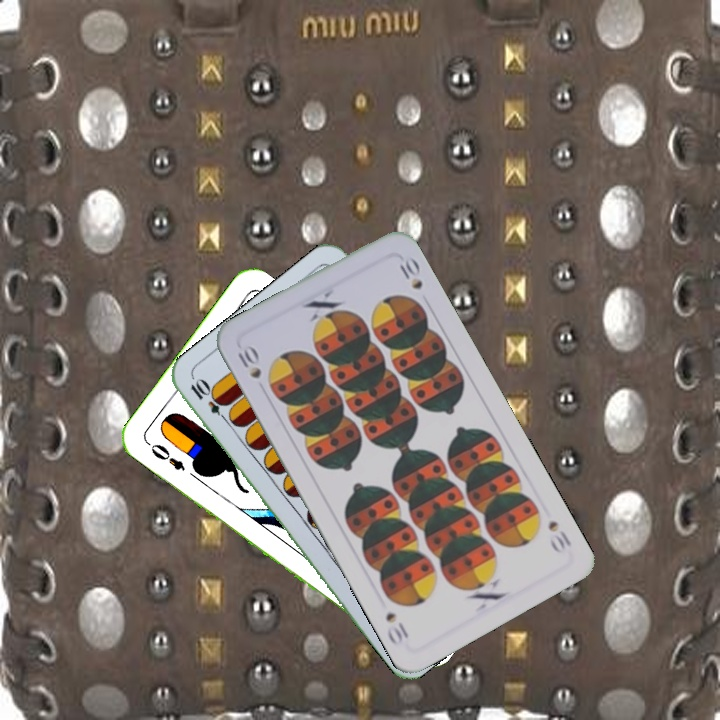E10: (186, 375, 233, 426)
EO: (142, 437, 188, 473)
S10: (233, 343, 264, 382), (544, 516, 574, 556)
